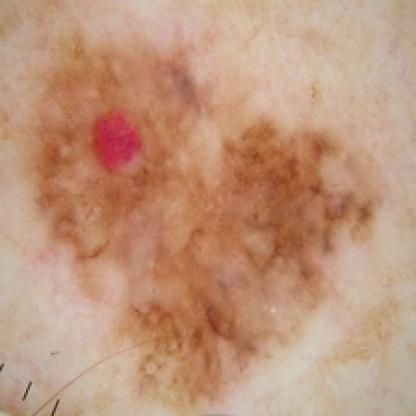malignant: (28, 20, 377, 342)
